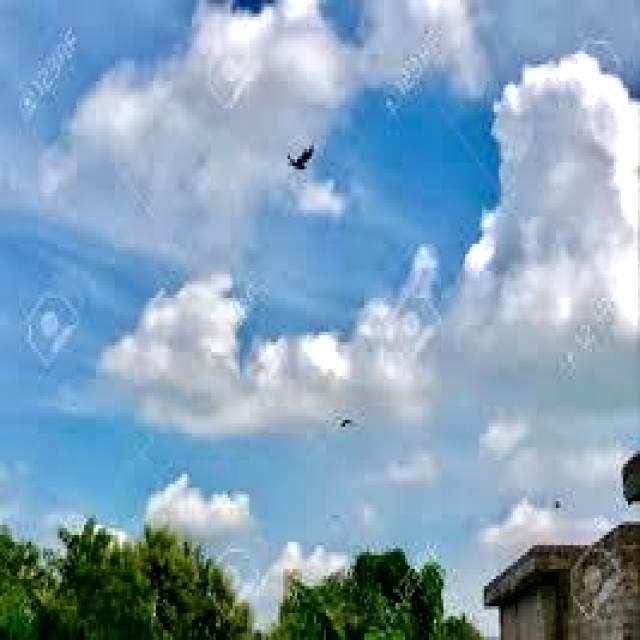bird: (283, 142, 318, 174)
